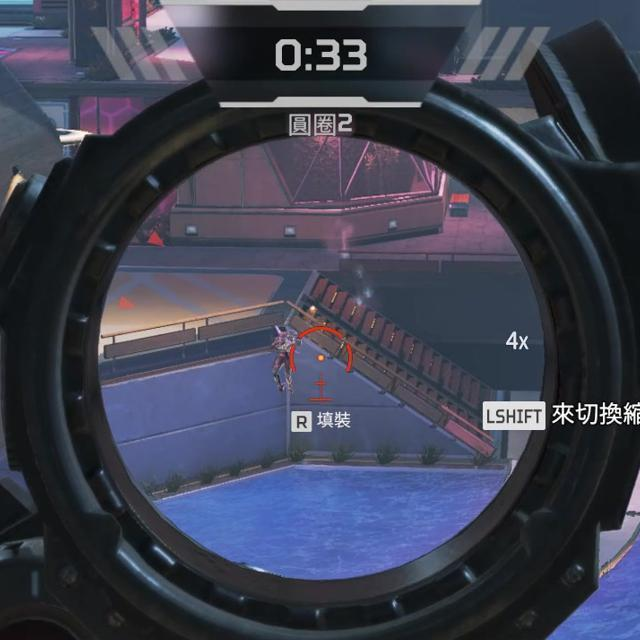avatar: (269, 329, 296, 396)
